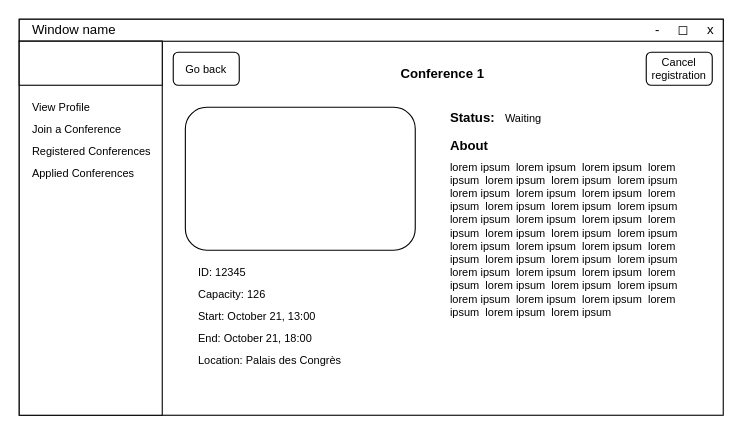
The diagram is 743 pixels wide and 435 high, and some of its shapes have lost their labels. Each missing label, with the centre of its shape:
"ConCentral" belongs at [90,62].
"Insert image" belongs at [299,178].
